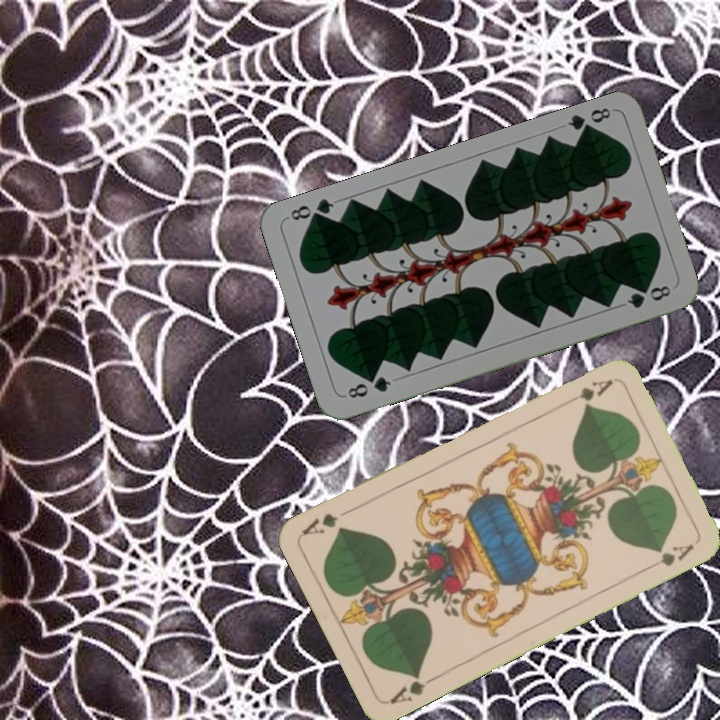G8: (563, 103, 614, 139), (343, 372, 394, 401)
GA: (385, 668, 440, 708), (559, 375, 616, 408)
